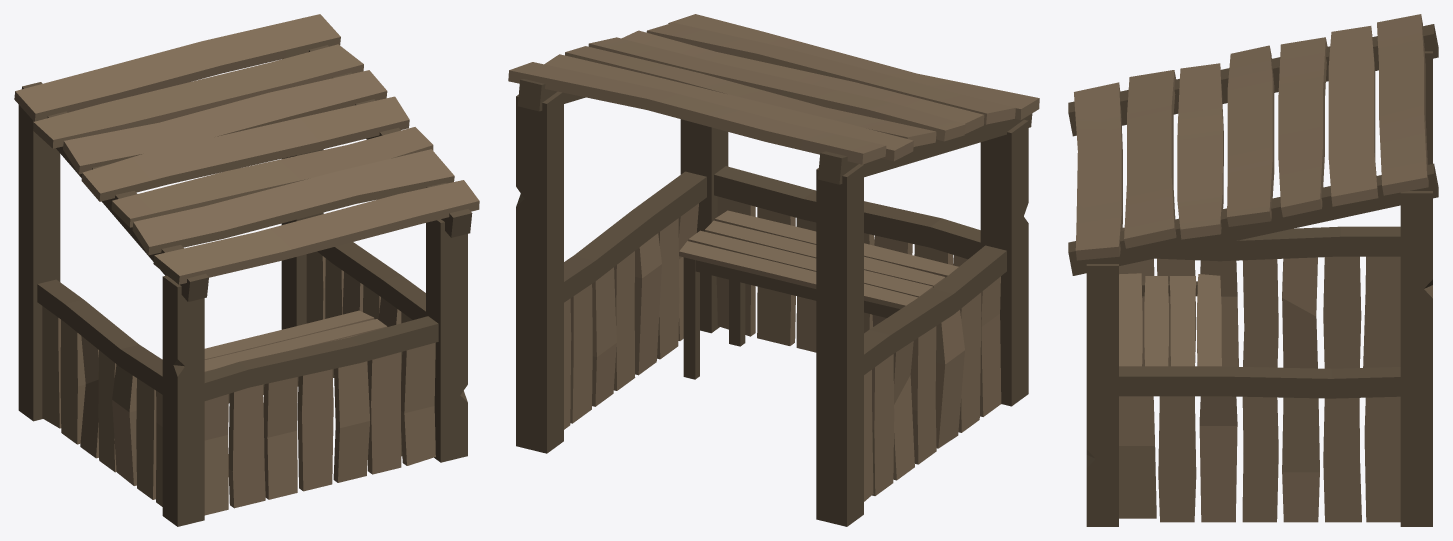
Rendered from stand_f.FBX.
The picture shows the model from 3 angles, left to right: view 1: azimuth 30°, elevation 25°; view 2: azimuth 150°, elevation 25°; view 3: azimuth 270°, elevation 25°; orthographic projection. The views are drawn at different scales.
Visible parts, largest first — view 1: stand_f; view 2: stand_f; view 3: stand_f.
Boxes of the visible parts, x1,y1,x2,y2 form: stand_f: (14, 14, 479, 526); stand_f: (508, 14, 1039, 526); stand_f: (1068, 14, 1438, 526).
Size of the model in its own units: 2.75 by 2.74 by 2.57.
